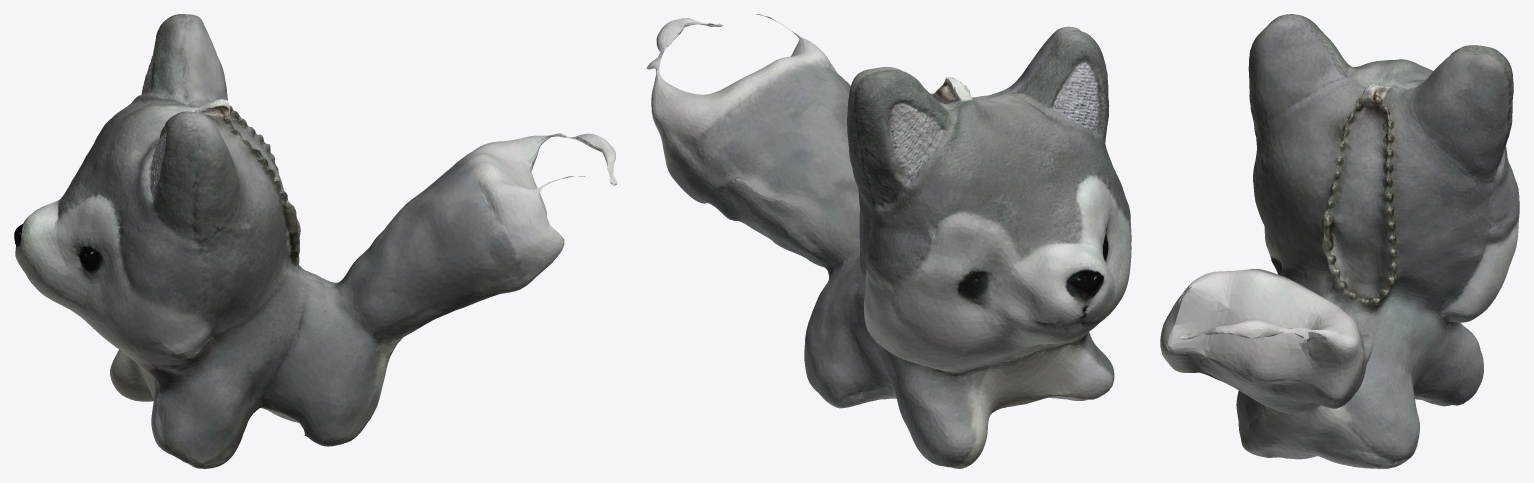
3 views of the same model, side by side, from view 1: azimuth 30°, elevation 25°; view 2: azimuth 150°, elevation 25°; view 3: azimuth 270°, elevation 25° (orthographic). The views are drawn at different scales.
Visible parts, largest first — view 1: a6990bab-759d-4915-8d69-9b786f63a3d5; view 2: a6990bab-759d-4915-8d69-9b786f63a3d5; view 3: a6990bab-759d-4915-8d69-9b786f63a3d5.
Boxes of the visible parts, x1=… form: a6990bab-759d-4915-8d69-9b786f63a3d5: x1=14, y1=14, x2=617, y2=468; a6990bab-759d-4915-8d69-9b786f63a3d5: x1=646, y1=14, x2=1131, y2=468; a6990bab-759d-4915-8d69-9b786f63a3d5: x1=1160, y1=14, x2=1519, y2=468.
Bounding box in the file's own units: 1.15 × 0.7914 × 0.6852.
1 material, 1 textured.
